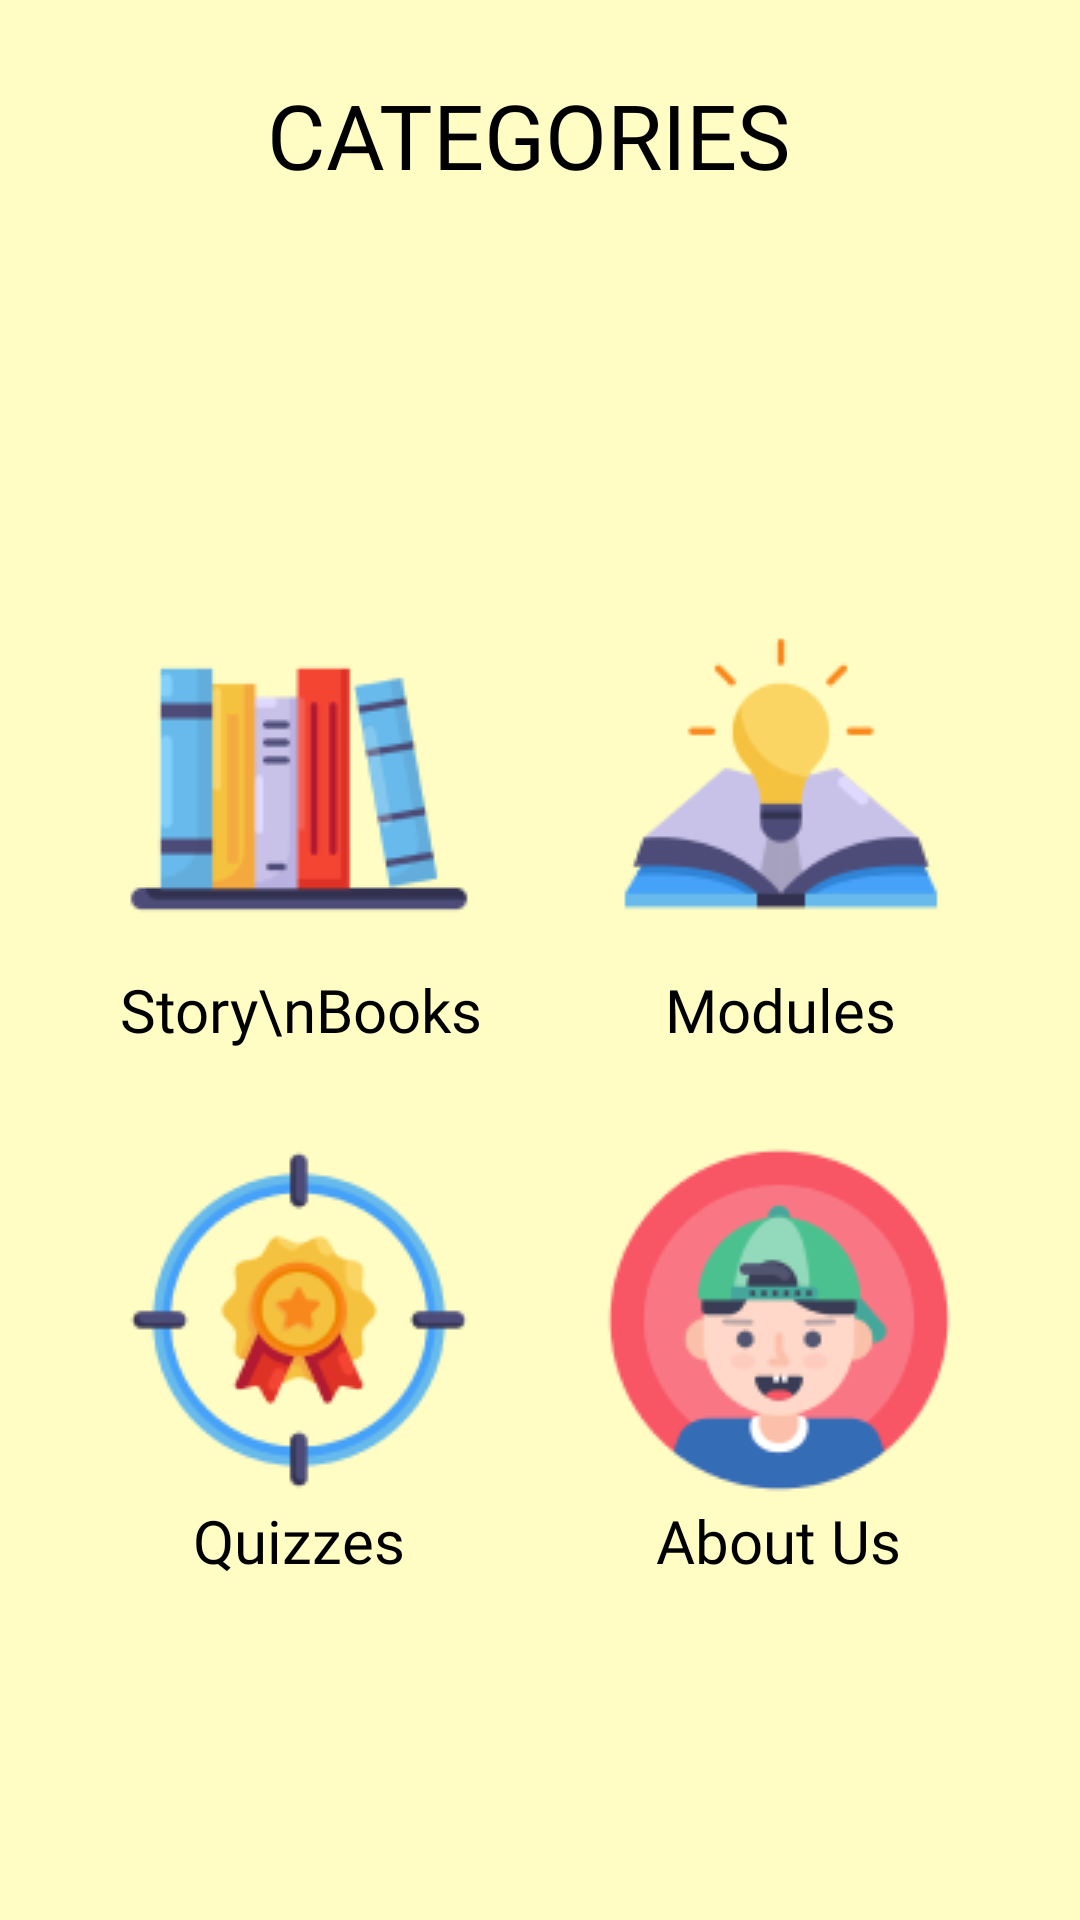

Screen size 1080px×1920px. Icon name, then its center in pixels as (x,y):
bookbulb: (781,774)
booksshelf: (299,788)
boy: (779,1320)
ribbontarget: (298,1320)
